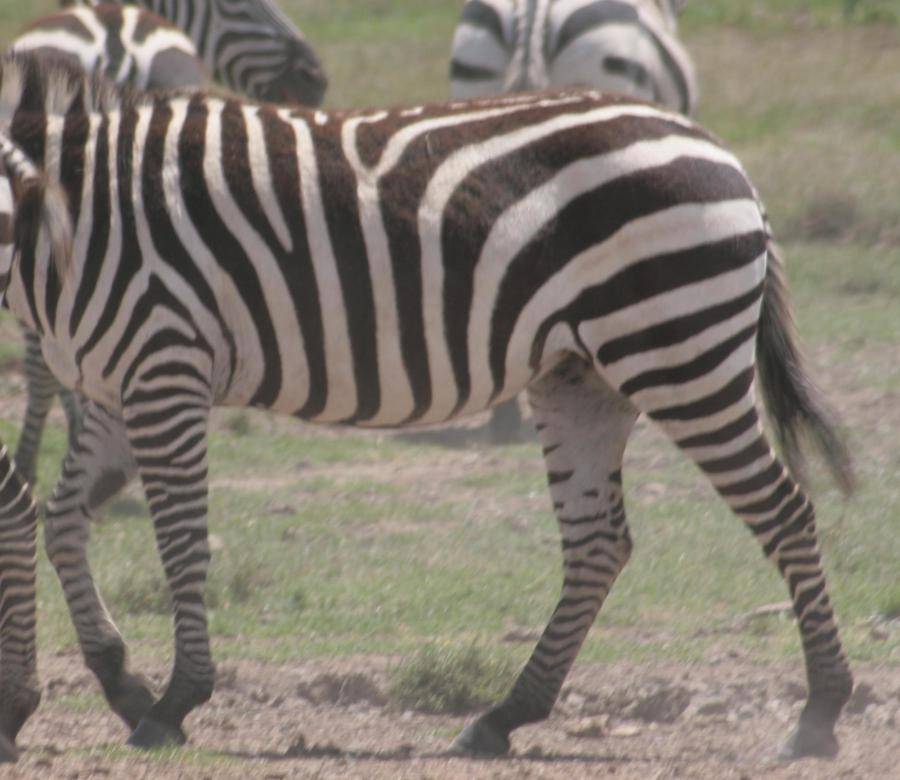zebra_plains: (67, 67, 742, 413)
